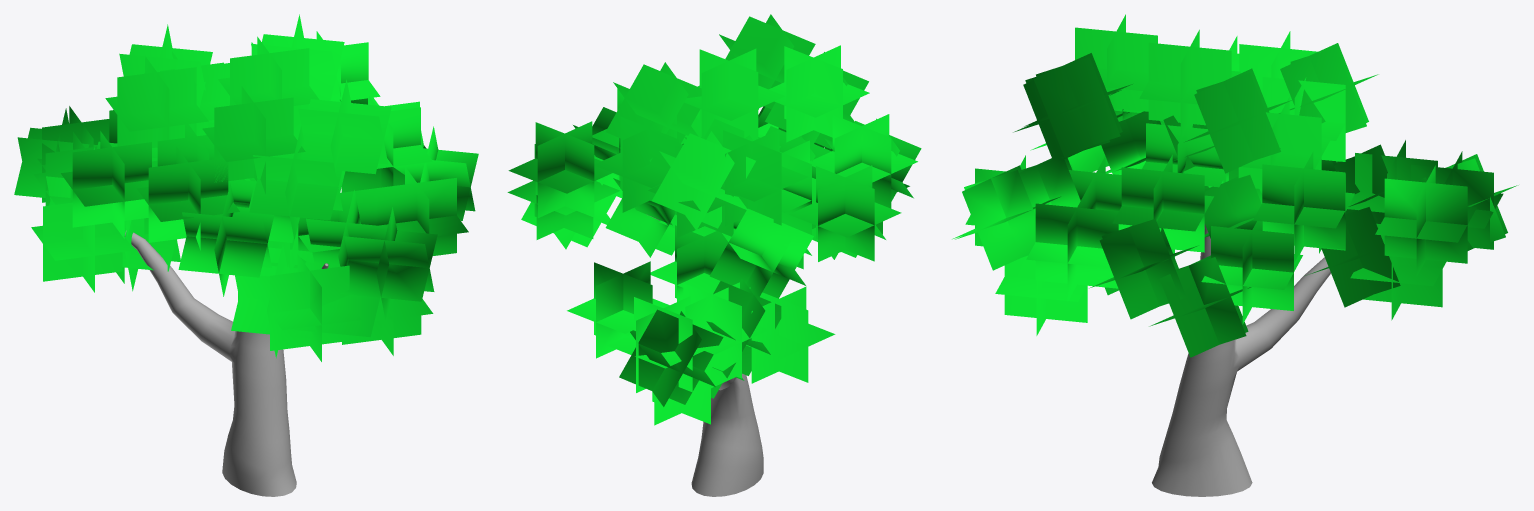
File: MDL_Tree_3.fbx
The picture shows the model from 3 angles, left to right: view 1: azimuth 30°, elevation 25°; view 2: azimuth 150°, elevation 25°; view 3: azimuth 270°, elevation 25°; orthographic projection. The views are drawn at different scales.
Visible parts, largest first — view 1: pPlane2 (×21), pPlane3 (×23), pPlane1 (×20), trumk; view 2: pPlane2 (×29), pPlane1 (×21), pPlane3 (×18), trumk; view 3: pPlane1 (×27), pPlane2 (×18), pPlane3 (×11), trumk.
Part boxes in pixels (x1=…): pPlane2 (×21): x1=42, y1=42, x2=456, y2=350; pPlane3 (×23): x1=14, y1=34, x2=478, y2=338; pPlane1 (×20): x1=17, y1=36, x2=475, y2=361; trumk: x1=124, y1=230, x2=328, y2=496; pPlane2 (×29): x1=521, y1=16, x2=921, y2=424; pPlane1 (×21): x1=536, y1=14, x2=889, y2=425; pPlane3 (×18): x1=507, y1=82, x2=917, y2=386; trumk: x1=650, y1=216, x2=763, y2=496; pPlane1 (×27): x1=962, y1=27, x2=1493, y2=357; pPlane2 (×18): x1=964, y1=14, x2=1505, y2=344; pPlane3 (×11): x1=995, y1=68, x2=1476, y2=301; trumk: x1=1152, y1=224, x2=1330, y2=496.
Size of the model in its own units: 6.15 by 6.6 by 7.71.
